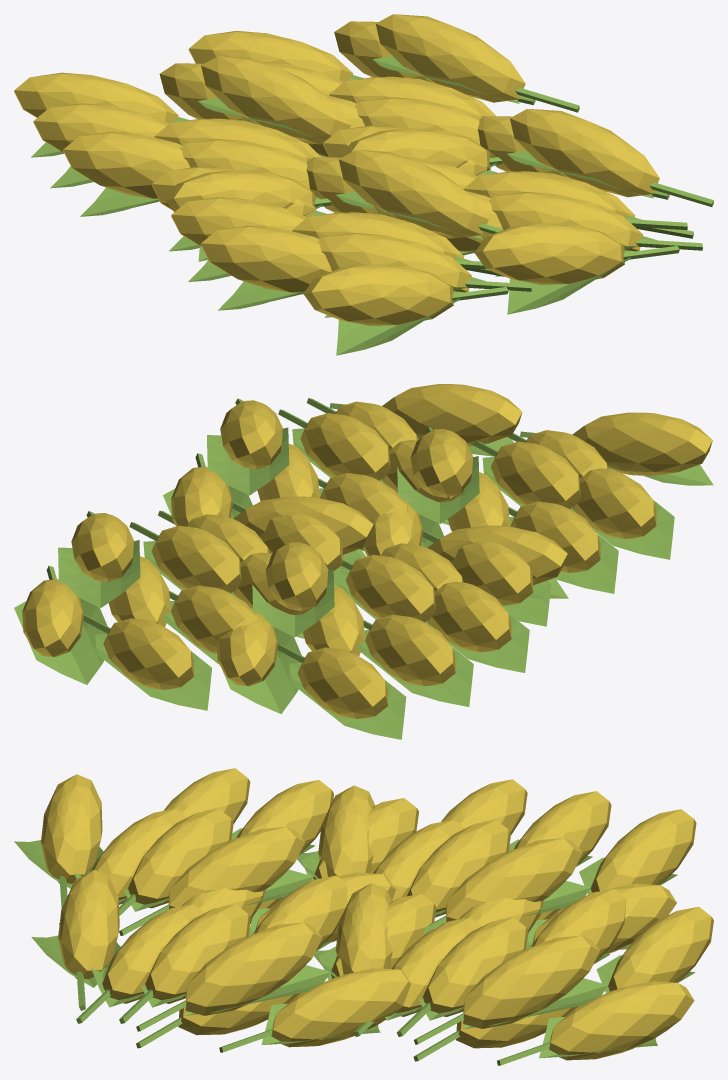
The model's file is Wheat.dae.
The picture shows the model from 3 angles, top to bottom: view 1: azimuth 30°, elevation 25°; view 2: azimuth 150°, elevation 25°; view 3: azimuth 270°, elevation 25°; orthographic projection. The views are drawn at different scales.
Parts seen in each view (by area): view 1: Sphere_003, Sphere_032, Sphere_014, Sphere_021, Sphere_008, Sphere_009, Sphere_013, Sphere_022, Sphere_024, Sphere_002, Sphere_015, Sphere_029 (+27 smaller); view 2: Sphere_009, Sphere_008, Sphere_023, Sphere_029, Sphere_024, Sphere_001, Sphere_016, Sphere_019, Sphere_034, Sphere_013, Sphere_022, Sphere_028 (+38 smaller); view 3: Sphere_032, Sphere_003, Sphere_028, Sphere_007, Sphere_014, Sphere_021, Sphere_029, Sphere_024, Sphere_009, Sphere_008, Sphere_034, Sphere_016 (+30 smaller).
Boxes of the visible parts, <box> form: Sphere_003: <box>510,109,659,197</box>; Sphere_032: <box>375,14,525,102</box>; Sphere_014: <box>339,150,488,238</box>; Sphere_021: <box>201,56,350,144</box>; Sphere_008: <box>475,222,624,284</box>; Sphere_009: <box>303,263,453,325</box>; Sphere_013: <box>201,225,332,294</box>; Sphere_022: <box>63,132,189,199</box>; Sphere_024: <box>14,72,178,123</box>; Sphere_002: <box>489,191,642,251</box>; Sphere_015: <box>318,233,471,292</box>; Sphere_029: <box>188,31,353,81</box>; Sphere_009: <box>572,412,712,475</box>; Sphere_008: <box>382,384,522,446</box>; Sphere_023: <box>365,614,455,686</box>; Sphere_029: <box>103,618,193,689</box>; Sphere_024: <box>297,647,387,718</box>; Sphere_001: <box>300,413,390,480</box>; Sphere_016: <box>491,441,580,509</box>; Sphere_019: <box>345,554,435,622</box>; Sphere_034: <box>151,525,241,593</box>; Sphere_013: <box>572,468,656,538</box>; Sphere_022: <box>427,581,511,652</box>; Sphere_028: <box>22,579,84,656</box>; Sphere_032: <box>463,935,600,1028</box>; Sphere_003: <box>185,922,322,1015</box>; Sphere_028: <box>549,981,694,1060</box>; Sphere_007: <box>271,968,410,1047</box>; Sphere_014: <box>168,827,305,909</box>; Sphere_021: <box>446,838,582,922</box>; Sphere_029: <box>608,907,713,991</box>; Sphere_024: <box>590,809,696,892</box>; Sphere_009: <box>41,774,102,883</box>; Sphere_008: <box>58,870,119,979</box>; Sphere_034: <box>423,917,528,1016</box>; Sphere_016: <box>128,808,233,908</box>.
Bounding box in the file's own units: 1.07 × 1.41 × 0.286.
